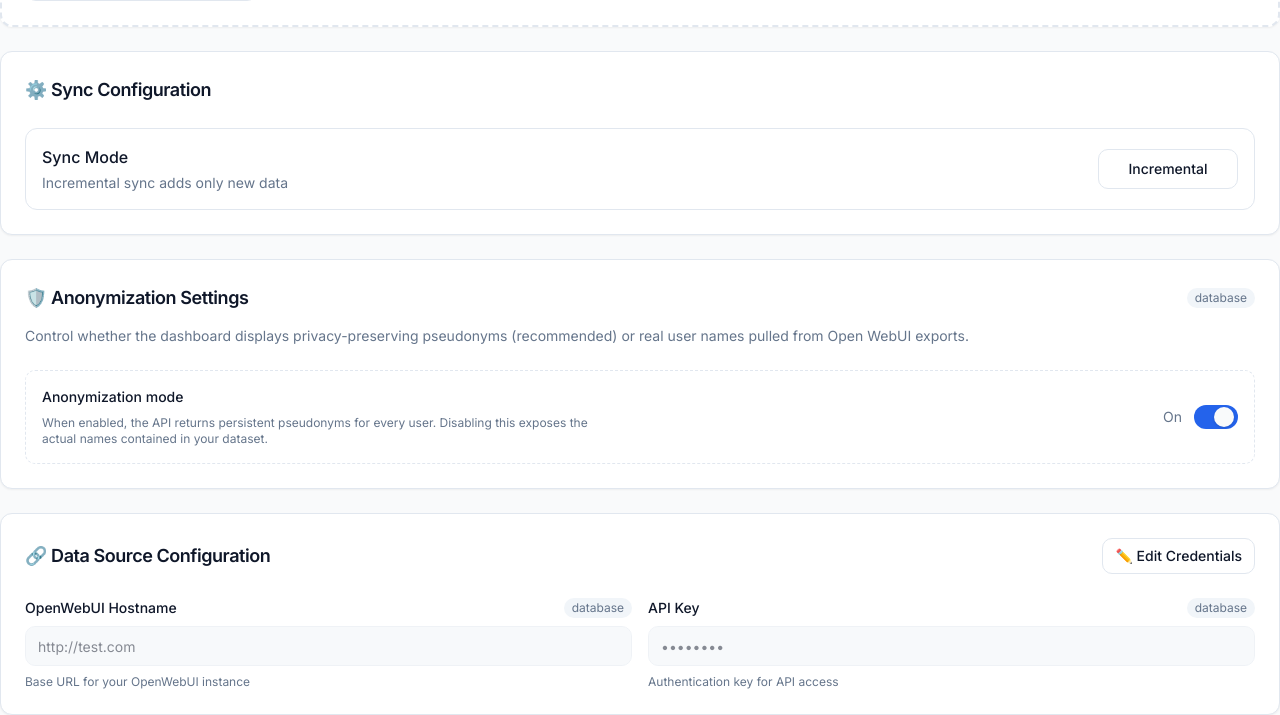
ConnectionInfoPanel › Edit Mode › should show Save Changes and Cancel buttons in edit mode
(page scrolled)
Expected: the button "save changes" is not shown
Expected: the text "cancel" is not shown
Click the button "✏️ Edit Credentials" at point(1179, 556), box 1102,538 -> 1255,574
(page scrolled)
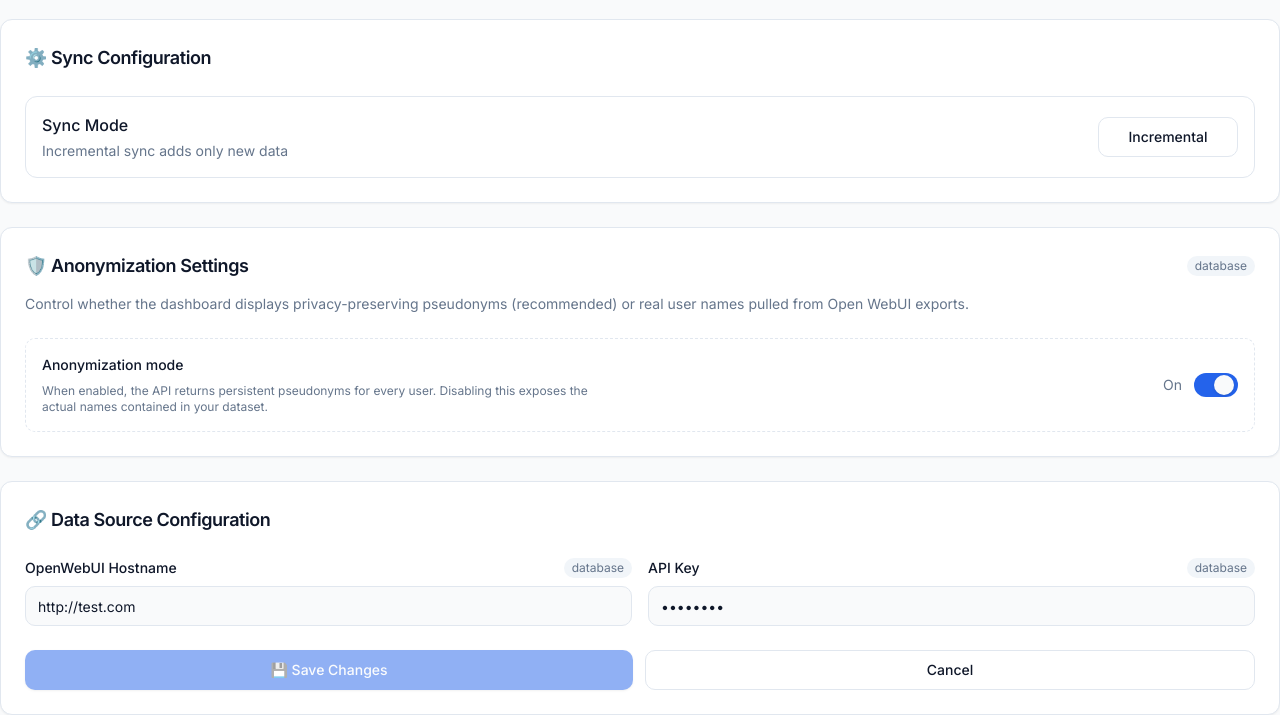
Result: the button "💾 Save Changes" is shown at 25,650 -> 633,690
Result: the button "Cancel" is shown at 645,650 -> 1255,690
